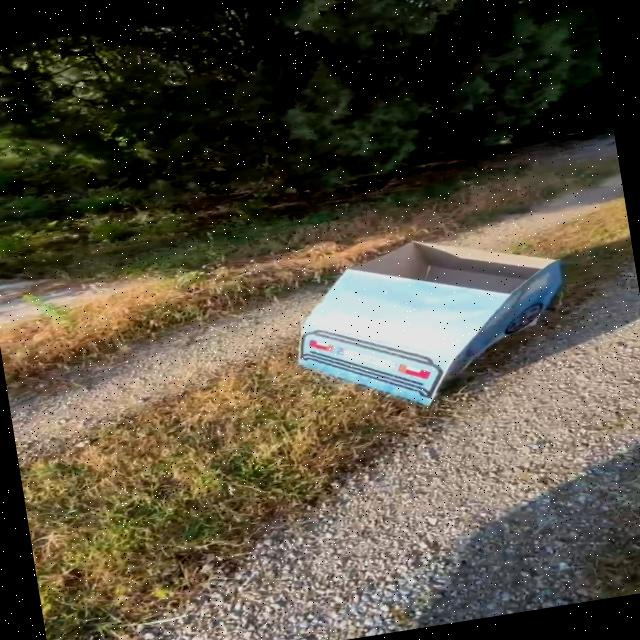blue_car: (245, 199, 600, 454)
